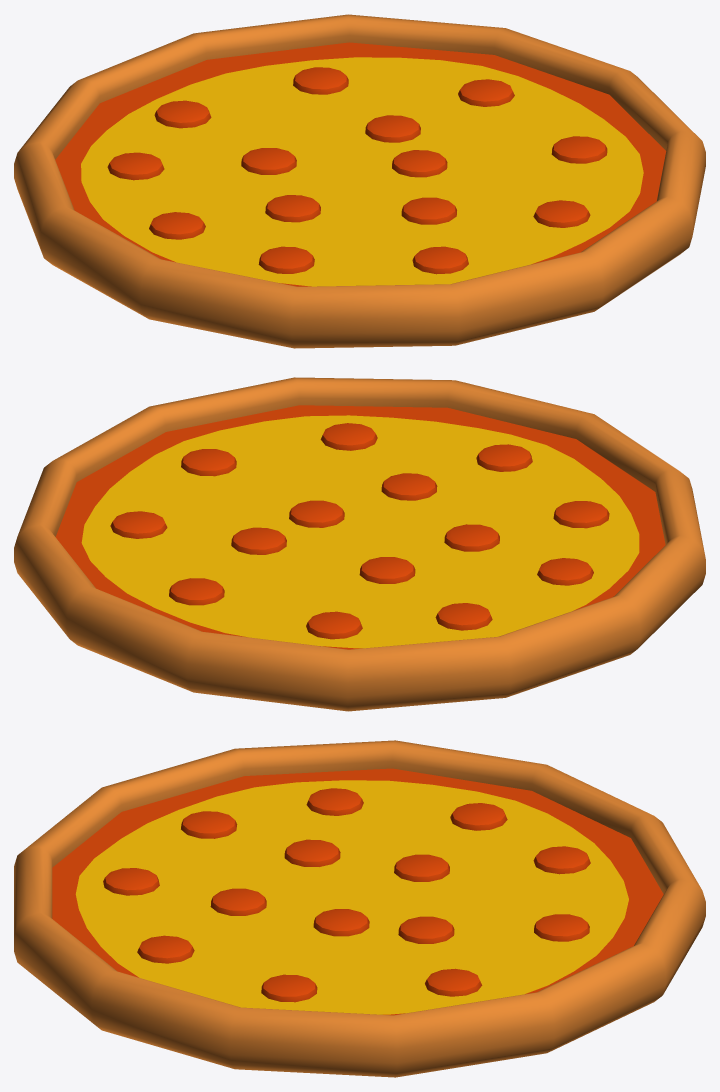
Rendered from Pizzaa.fbx.
3 views of the same model, one above another, from view 1: azimuth 30°, elevation 25°; view 2: azimuth 150°, elevation 25°; view 3: azimuth 270°, elevation 25° (orthographic).
Parts seen in each view (by area): view 1: Pizzaa; view 2: Pizzaa; view 3: Pizzaa.
Part boxes in pixels (box(x1,y1,x2,y2)): Pizzaa: box(14, 14, 705, 348); Pizzaa: box(14, 377, 705, 711); Pizzaa: box(14, 740, 705, 1077).
Bounding box in the file's own units: 0.2754 × 0.0259 × 0.2734.
